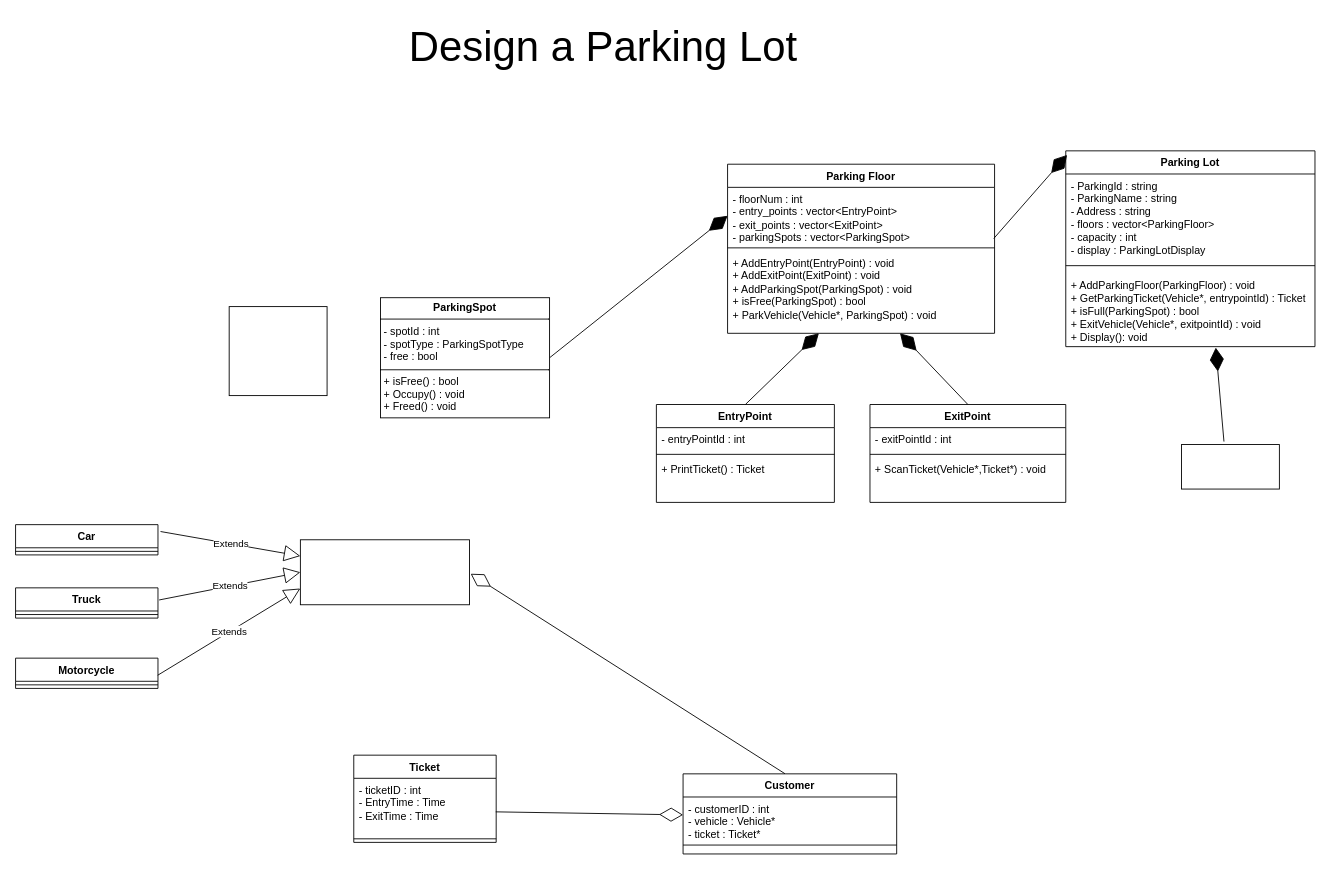
Image size: 1331x870. Some labels were removed from this diagram. Each missing label, with the centre of its shape:
"<<enum>> ParkingSpotType Compact Large Motorcycle Handicapped" goes at point 277,351.
"<<Interface>> Vehicle - license_no : string" goes at point 384,572.
"ParkingLotDisplay" goes at point 1230,466.
